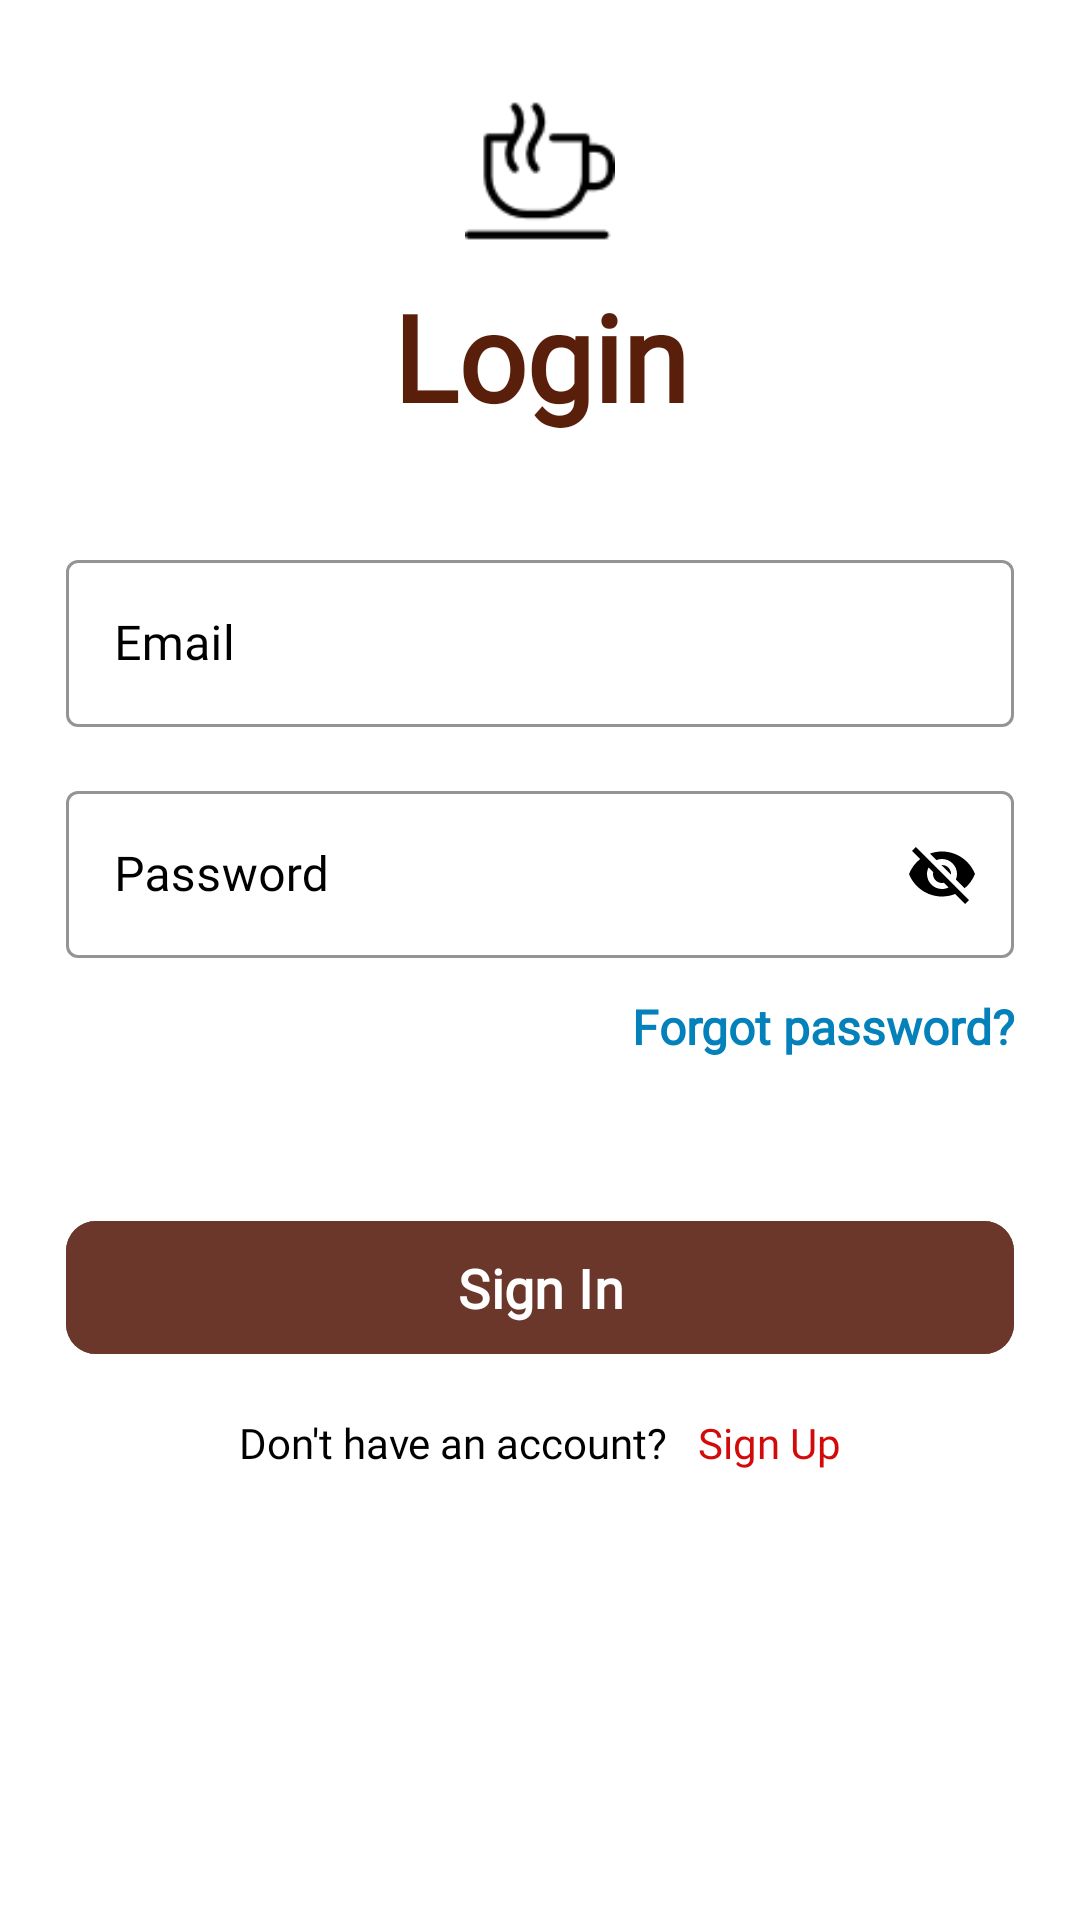

Named icons in this screenshot (1080x1920) and their centers, (x=x, y=y):
hotcoffee: (x=540, y=171)
